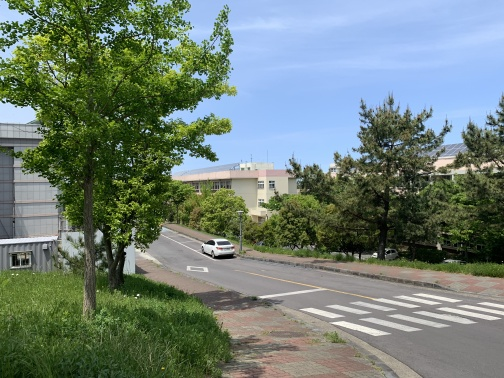College Of Education: (172, 152, 307, 220)
